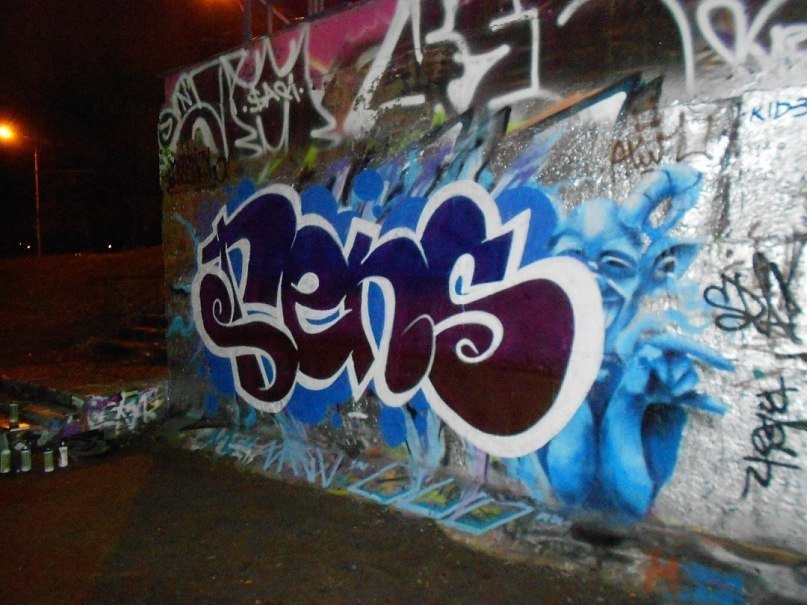graffity: (184, 174, 608, 459), (345, 1, 802, 144), (701, 227, 807, 504), (154, 50, 334, 161)
